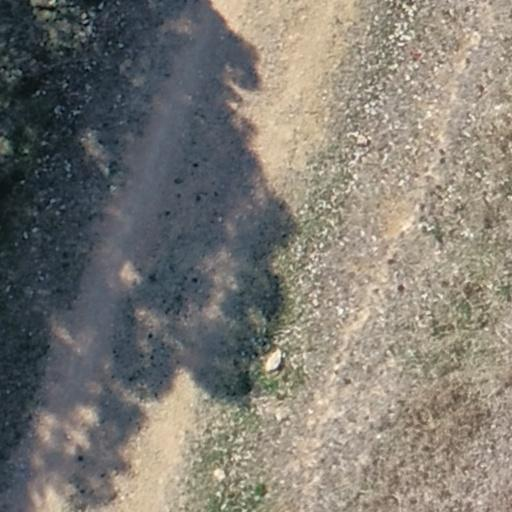stone: (264, 355, 287, 371), (212, 469, 229, 485), (277, 404, 288, 426), (356, 132, 369, 150), (393, 284, 410, 294), (64, 155, 72, 172), (310, 298, 318, 309)
